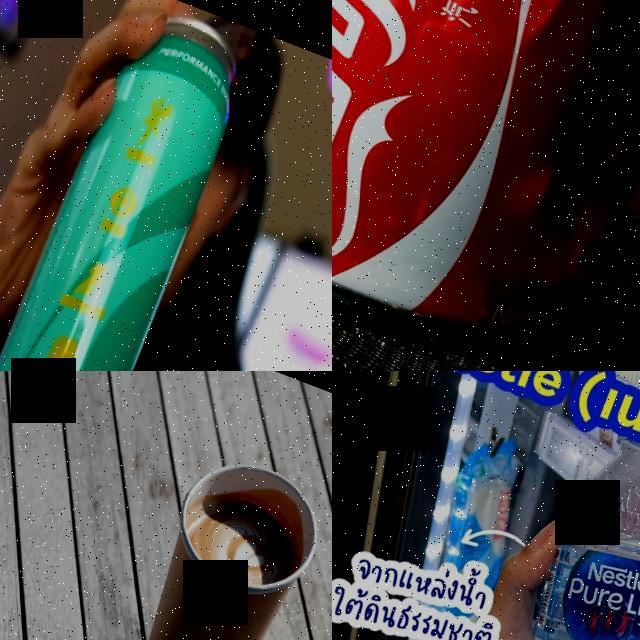bottle: (408, 417, 640, 640)
can: (332, 0, 640, 371), (0, 0, 260, 371)
cup: (101, 445, 332, 640)
